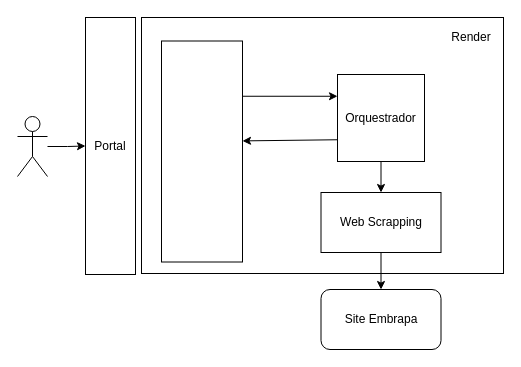
Image size: 521x367. Some labels were removed from this diagram. Here are the shapes that lost their labels. From the top down, the centre of each, then its label:
[32,146]: User
[201,151]: API
